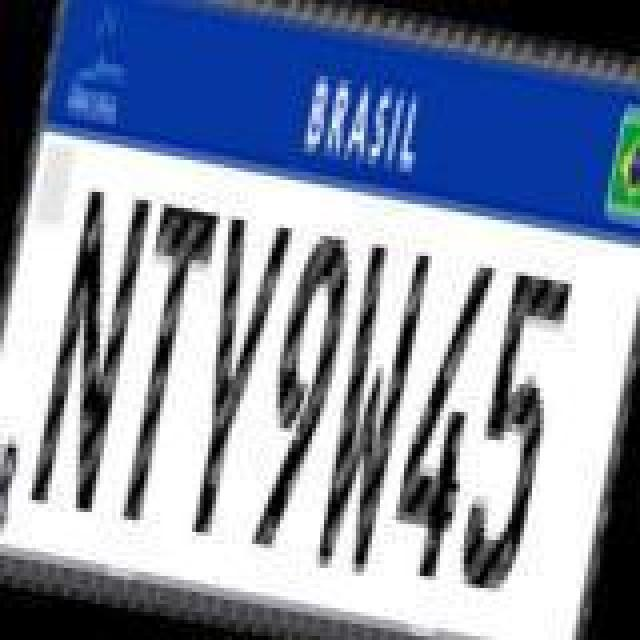4: (382, 248, 506, 584)
5: (448, 262, 576, 602)
9: (242, 216, 366, 552)
N: (22, 176, 154, 520)
T: (98, 194, 222, 526)
W: (304, 232, 432, 584)
Y: (168, 208, 296, 544)
